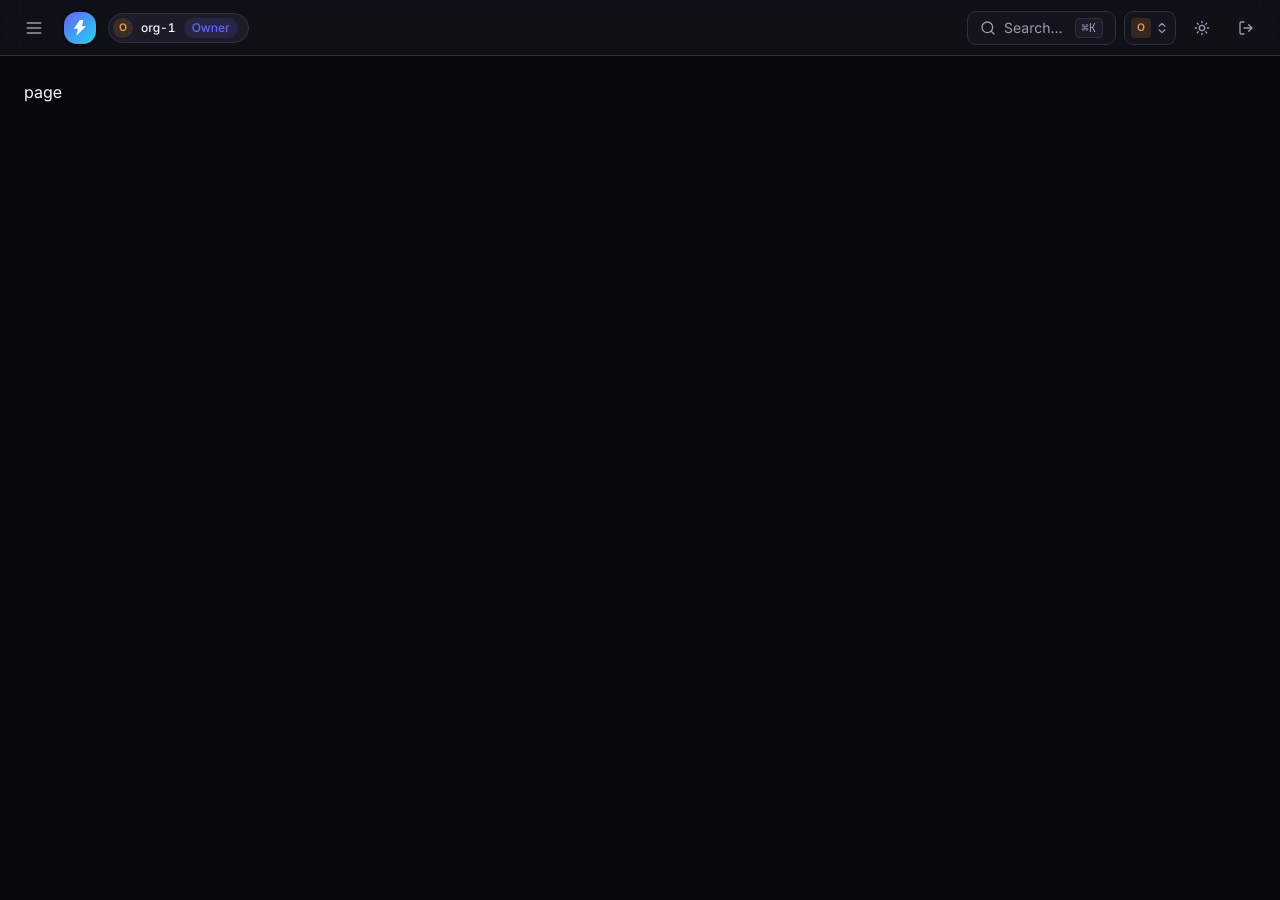
AppShell — RBAC-aware, responsive shell (Req 4.1, 4.6) › collapses to a mobile drawer below md
Click the button with test id "mobile-nav-trigger". click: (34, 28)
box: [16,10,52,46]
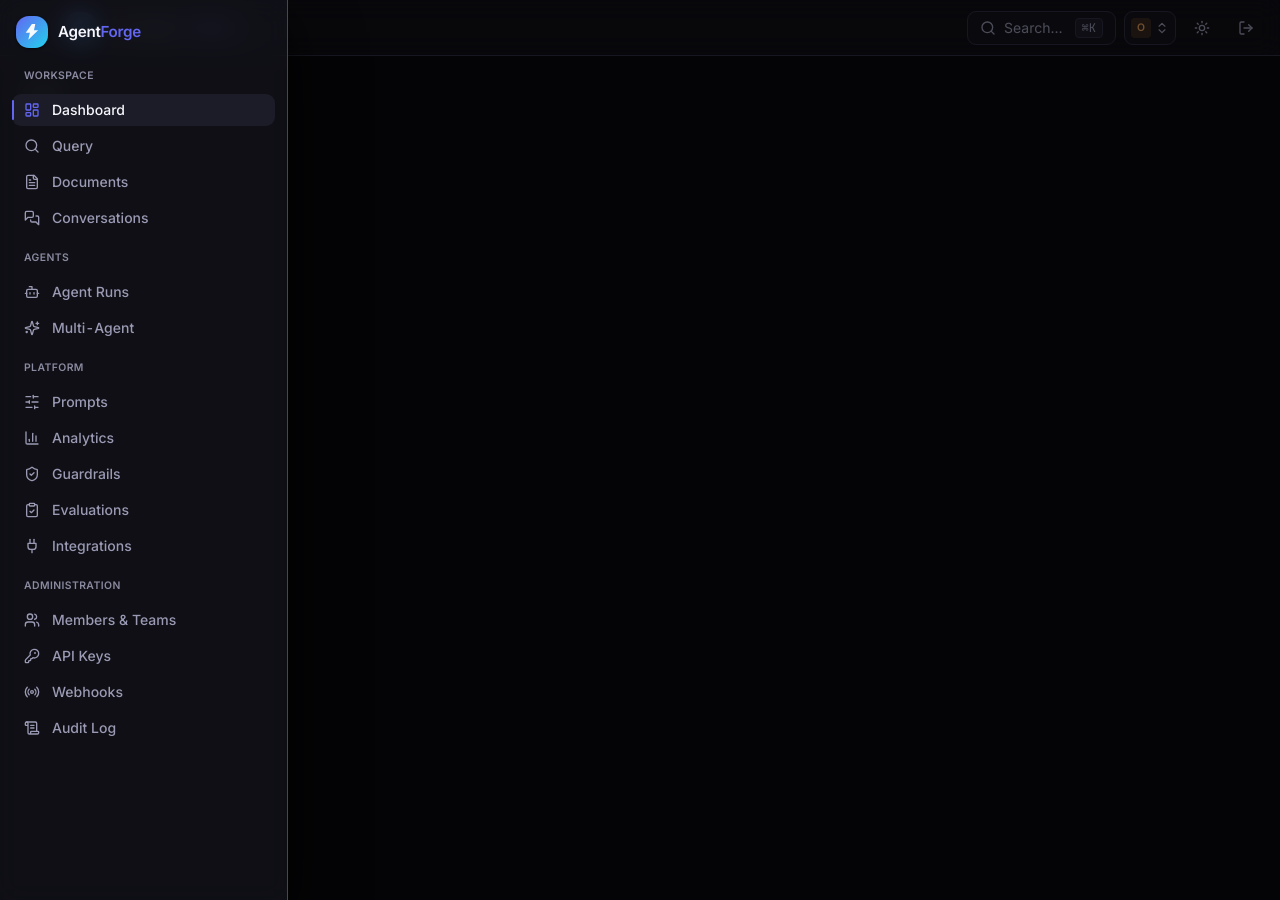
expect the dialog with test id "mobile-drawer" is shown: met, box [0,0,288,899]
